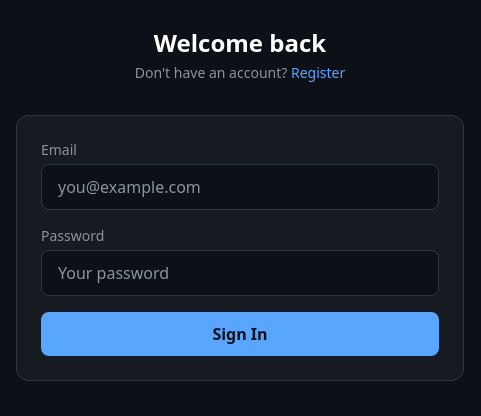
Test case: Login page › shows the server error message when login fails
Type "jane@example.com" into the field labelled "Email" at coordinates (240, 187), box [41,164,439,210]
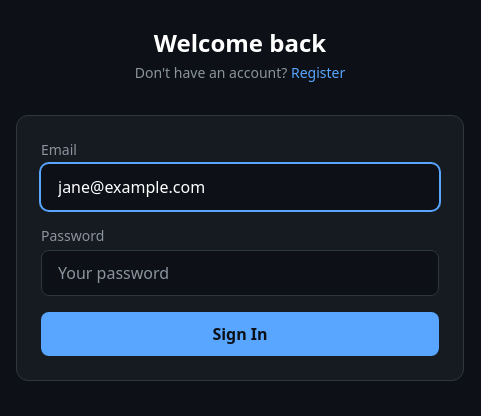
Type "secret" into the password field labelled "Password" at coordinates (240, 273), box [41,250,439,296]
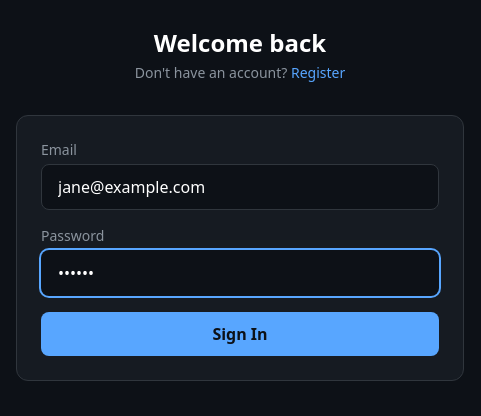
Click the button "Sign In" at coordinates (240, 334), box [41,312,439,356]
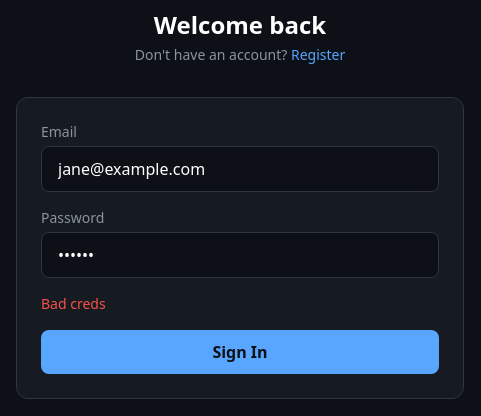
expect the text "Bad creds" is shown: met, box [41,294,106,313]
